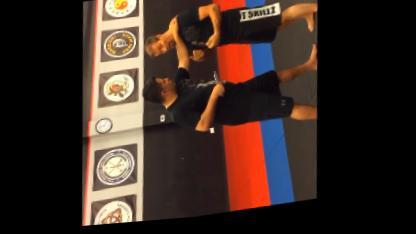knife: (210, 72, 228, 102)
